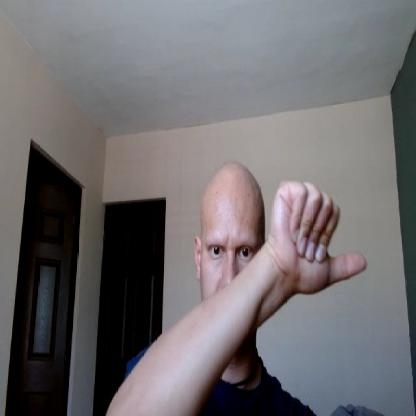A: (272, 175, 366, 295)
